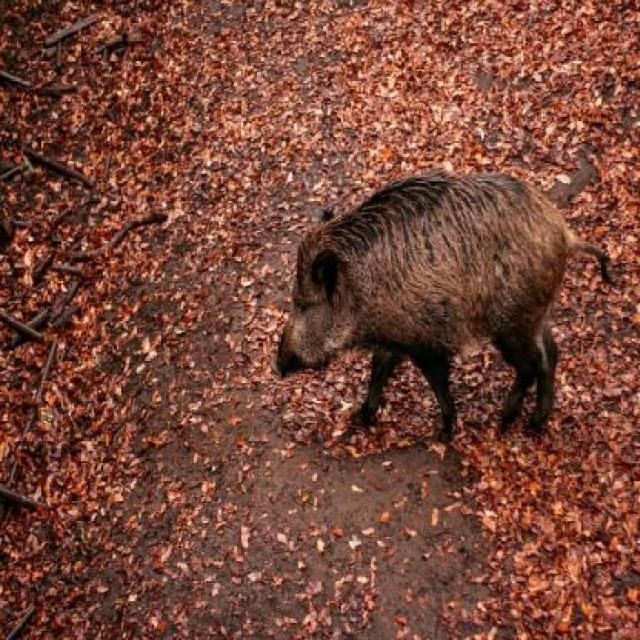wildboar: (264, 167, 619, 456)
